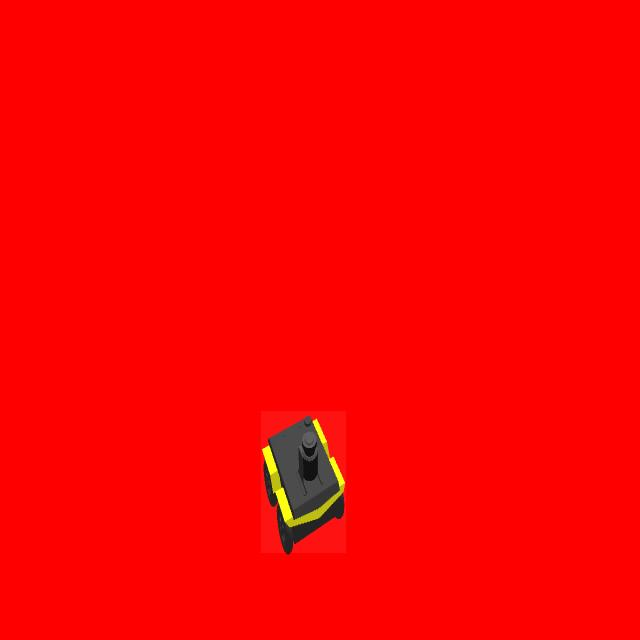jackal: (261, 411, 346, 553)
